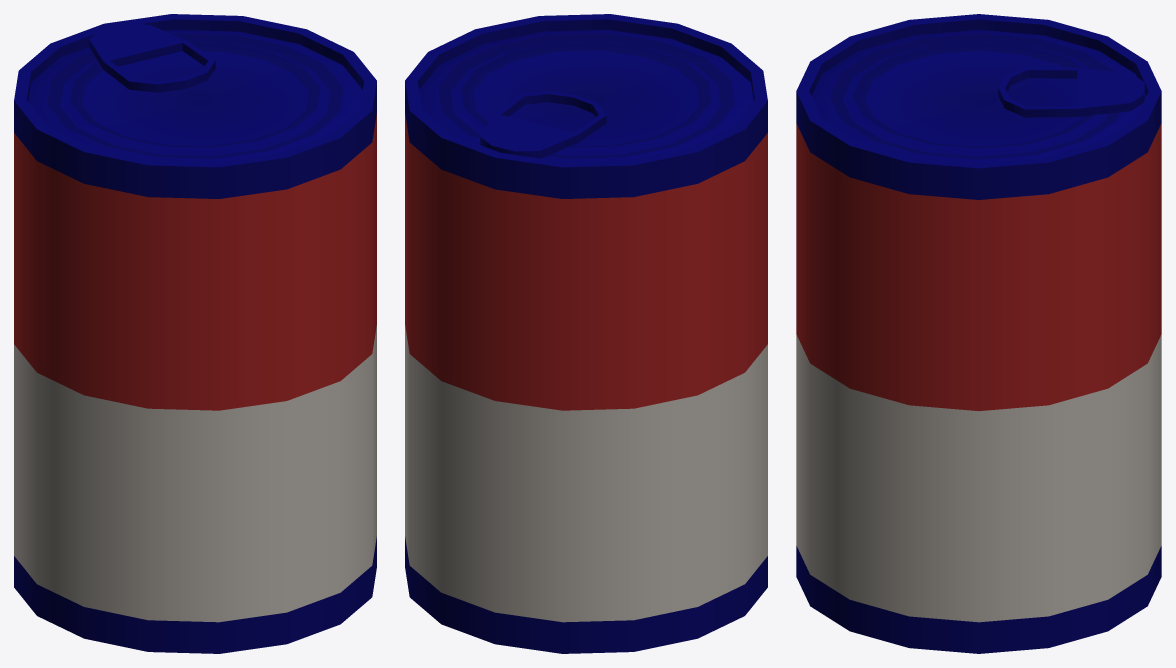
File: consumables-cannedfood-canofsoup_v1.fbx
3 views of the same model, side by side, from view 1: azimuth 30°, elevation 25°; view 2: azimuth 150°, elevation 25°; view 3: azimuth 270°, elevation 25° (orthographic).
Visible parts, largest first — view 1: CanOfSoup_base, CanOfSoup_refl; view 2: CanOfSoup_base, CanOfSoup_refl; view 3: CanOfSoup_base, CanOfSoup_refl.
Part boxes in pixels (left/top/right/bottom): CanOfSoup_base: left=14, top=113, right=376, bottom=622; CanOfSoup_refl: left=14, top=14, right=376, bottom=653; CanOfSoup_base: left=405, top=113, right=767, bottom=622; CanOfSoup_refl: left=405, top=14, right=767, bottom=653; CanOfSoup_base: left=796, top=123, right=1161, bottom=622; CanOfSoup_refl: left=796, top=14, right=1161, bottom=653.
Size of the model in its own units: 0.1231 by 0.1816 by 0.1231.
